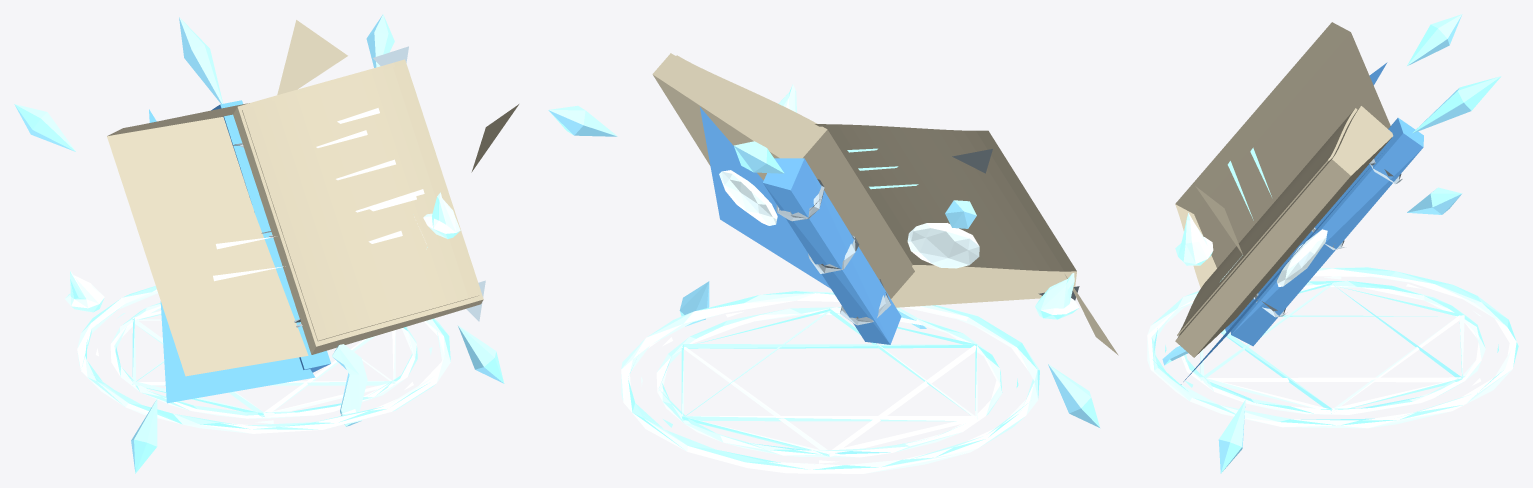
The model's file is tome_5.glb.
3 views of the same model, side by side, from view 1: azimuth 30°, elevation 25°; view 2: azimuth 150°, elevation 25°; view 3: azimuth 270°, elevation 25° (orthographic). The views are drawn at different scales.
Visible parts, largest first — view 1: Page__022, CoverL__002, CoverR__011, Circle__033, CoverL__001, Circle__034, Book__026, Orbit__056, Book__032, Book__059, Circle__035, Book__060 (+7 smaller); view 2: CoverL__002, CoverR__011, Circle__033, Book__026, Circle__034, CoverR__010, CoverL__030, Circle__035, Circle__040, CoverR__031, Circle__036, Book__062 (+8 smaller); view 3: CoverL__002, CoverR__011, Book__026, Circle__033, Page__022, Circle__034, Circle__035, Book__059, Circle__041, Orbit__057, Book__060, CoverR__031 (+8 smaller).
Part boxes in pixels (<box>): Page__022: <box>242,64,479,341</box>; CoverL__002: <box>107,103,308,376</box>; CoverR__011: <box>233,59,483,354</box>; Circle__033: <box>77,286,450,433</box>; CoverL__001: <box>149,109,315,403</box>; Circle__034: <box>110,302,417,418</box>; Book__026: <box>211,100,330,372</box>; Orbit__056: <box>277,20,347,94</box>; Book__032: <box>332,344,367,426</box>; Book__059: <box>179,17,222,103</box>; Circle__035: <box>132,311,395,417</box>; Book__060: <box>14,104,75,151</box>; CoverL__002: <box>815,124,1076,307</box>; CoverR__011: <box>652,53,914,298</box>; Circle__033: <box>621,291,1039,473</box>; Book__026: <box>763,158,901,344</box>; Circle__034: <box>656,307,1002,457</box>; CoverR__010: <box>700,107,830,288</box>; CoverL__030: <box>907,223,979,268</box>; Circle__035: <box>681,309,977,456</box>; Circle__040: <box>682,416,976,421</box>; CoverR__031: <box>719,170,777,225</box>; Circle__036: <box>682,344,976,348</box>; Book__062: <box>1048,364,1099,427</box>; CoverL__002: <box>1175,22,1390,288</box>; CoverR__011: <box>1175,105,1393,357</box>; Book__026: <box>1229,117,1423,346</box>; Circle__033: <box>1147,267,1518,428</box>; Page__022: <box>1177,108,1357,335</box>; Circle__034: <box>1178,280,1485,414</box>; Circle__035: <box>1200,282,1464,412</box>; Book__059: <box>1413,76,1501,133</box>; Circle__041: <box>1201,377,1462,382</box>; Orbit__057: <box>1175,213,1213,265</box>; Book__060: <box>1407,14,1462,65</box>; CoverR__031: <box>1277,229,1327,286</box>.
Size of the model in its own units: 0.3175 by 0.2148 by 0.2346.
